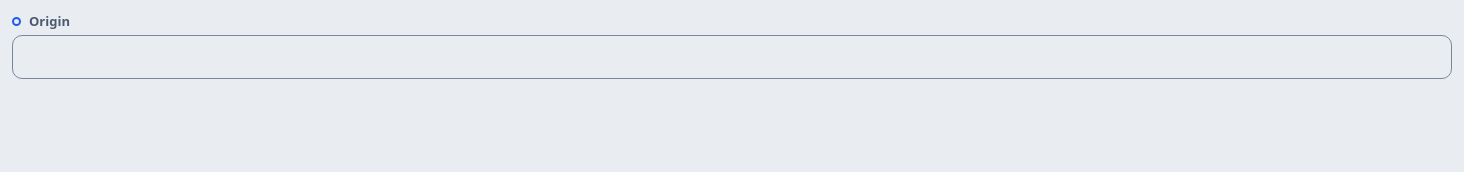
Test case: PlaceCombobox › debounces a search and selects with the keyboard
Later steps or results of the test are not shown.
Type "Ama" into the dropdown labelled "Origin". click: (732, 57)
box: [12,35,1452,79]
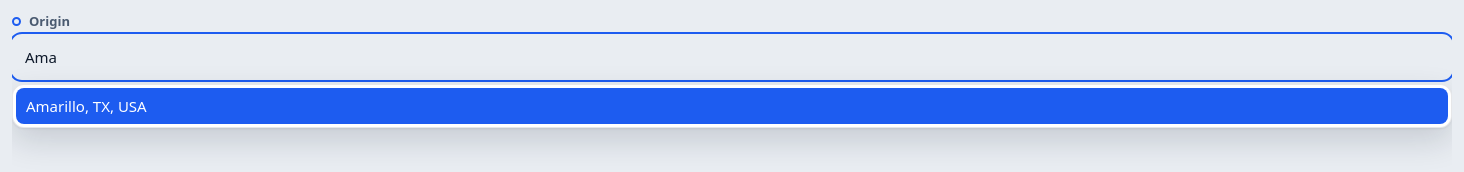
Expected: the option "Amarillo, TX, USA" is shown, [16,88,1448,124]
